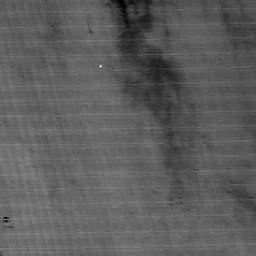Target: (97, 63, 103, 70)
